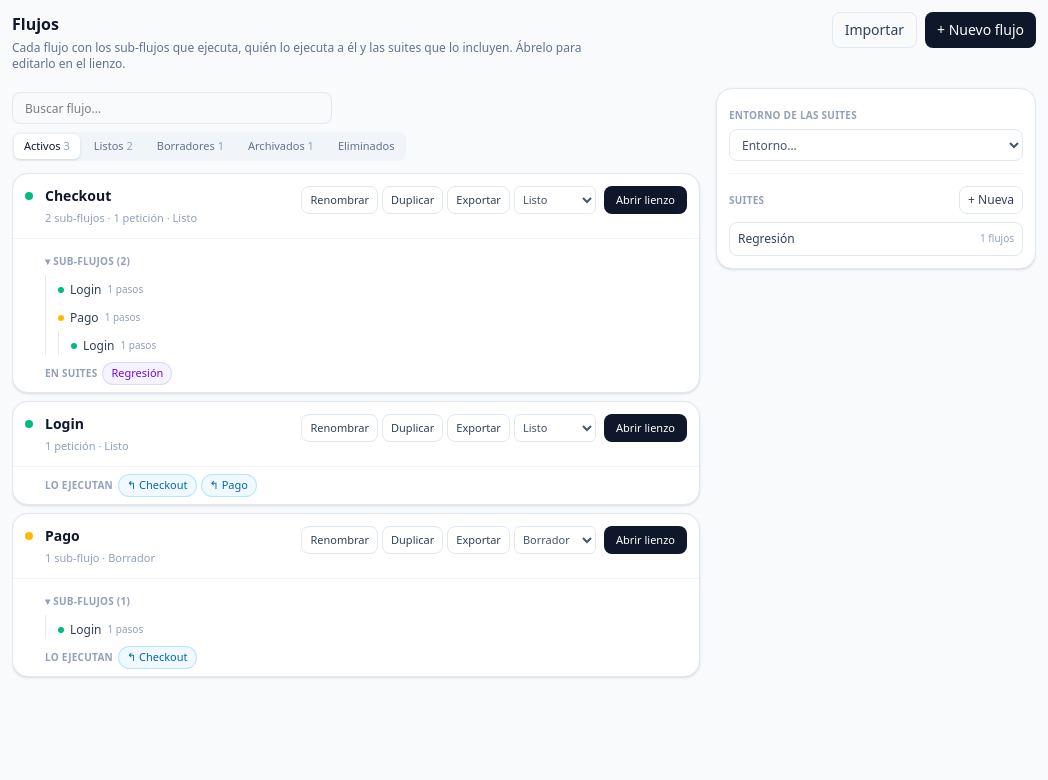
la lista de flujos › los archivados sólo aparecen en su filtro
The width and height of the screenshot is (1048, 780).
Expected: the text "Checkout" is shown, x1=45 y1=186 x2=111 y2=204
Expected: the text "Viejo" is not shown
What coordinates should you click on to do the following:
click the button "Archivados 1"
I would click on:
 (281, 146)
Its box is x1=238 y1=134 x2=324 y2=158.
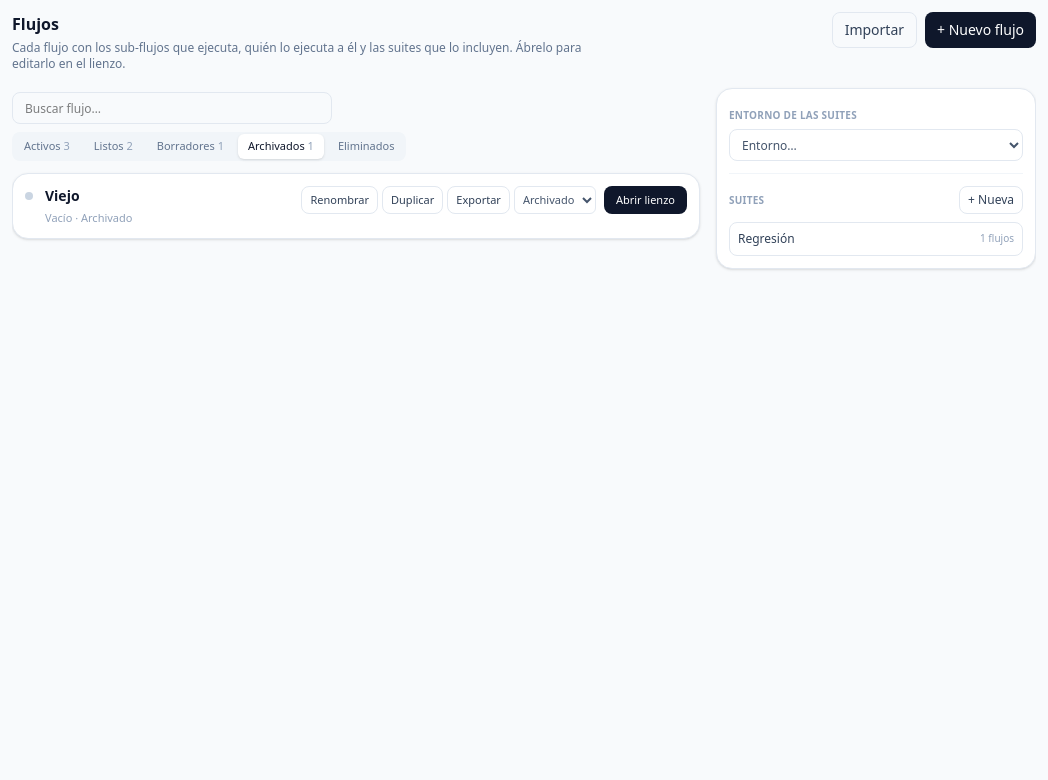
Expected: the text "Viejo" is shown, x1=45 y1=186 x2=80 y2=204
Expected: the link "Checkout" is gone
